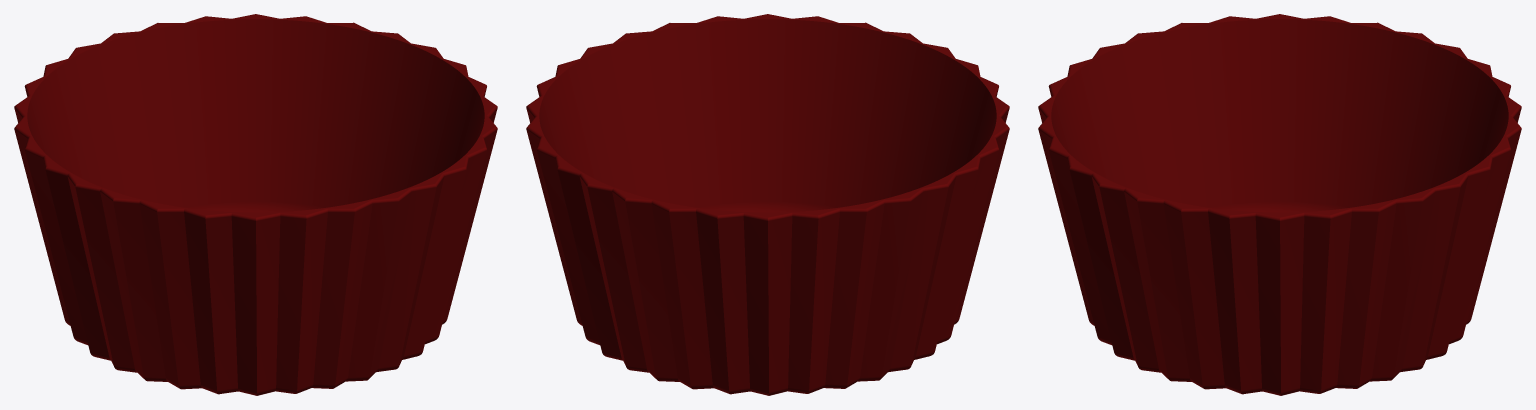
File: model23bowl.glb
3 views of the same model, side by side, from view 1: azimuth 30°, elevation 25°; view 2: azimuth 150°, elevation 25°; view 3: azimuth 270°, elevation 25° (orthographic).
Size of the model in its own units: 0.0957 by 0.044 by 0.0952.
